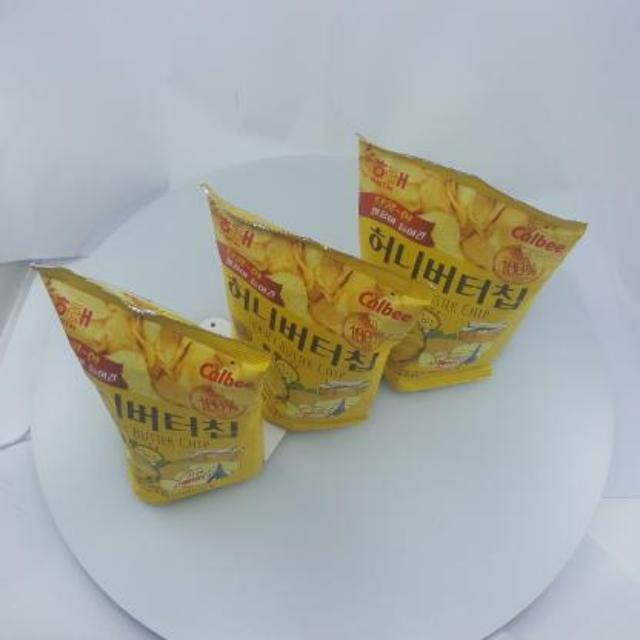snack_bag: (18, 119, 608, 525)
